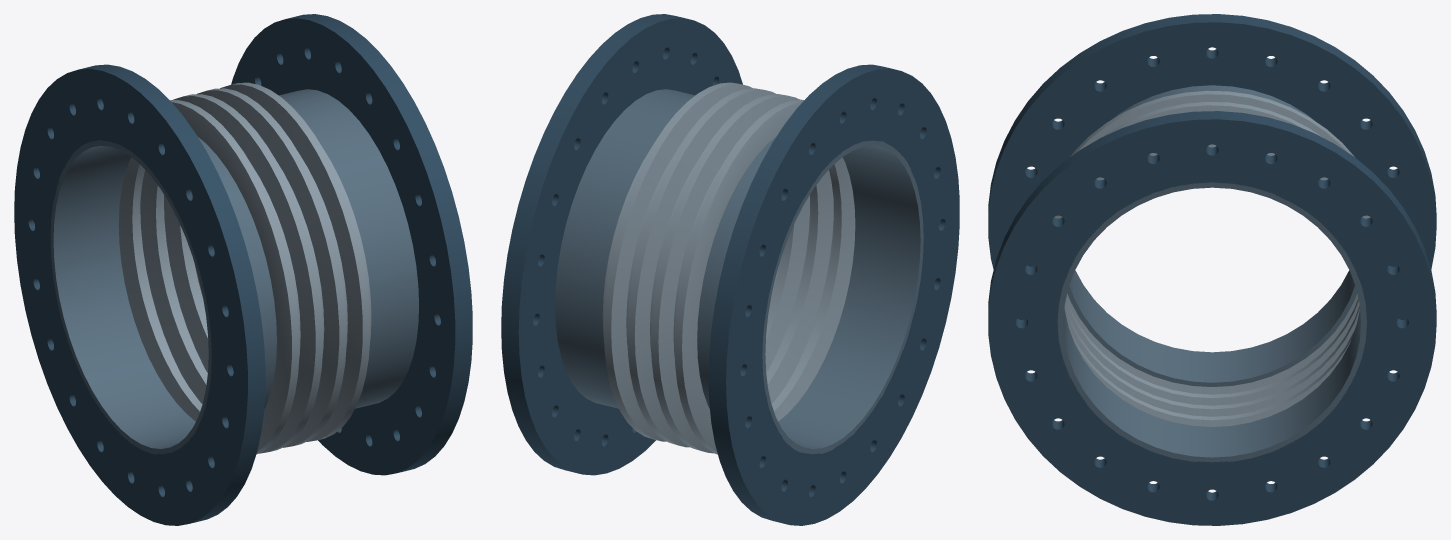
The model's file is flan-dn800-L660-D820-f.glb.
3 views of the same model, side by side, from view 1: azimuth 30°, elevation 25°; view 2: azimuth 150°, elevation 25°; view 3: azimuth 270°, elevation 25° (orthographic). The views are drawn at different scales.
Parts seen in each view (by area): view 1: prokladka_silfon_1, homut_flanec_1, homut_flanec_2, patrubok_1, patrubok_2; view 2: prokladka_silfon_1, homut_flanec_1, homut_flanec_2, patrubok_1, patrubok_2; view 3: homut_flanec_2, homut_flanec_1, prokladka_silfon_1, patrubok_2, patrubok_1.
Boxes of the visible parts, <box> form: prokladka_silfon_1: <box>118,82,371,454</box>; homut_flanec_1: <box>14,64,265,525</box>; homut_flanec_2: <box>231,14,472,475</box>; patrubok_1: <box>50,137,276,454</box>; patrubok_2: <box>279,89,418,408</box>; prokladka_silfon_1: <box>602,82,855,454</box>; homut_flanec_1: <box>708,64,959,525</box>; homut_flanec_2: <box>501,14,742,475</box>; patrubok_1: <box>697,136,923,454</box>; patrubok_2: <box>555,89,694,408</box>; homut_flanec_2: <box>988,111,1436,525</box>; homut_flanec_1: <box>988,14,1436,319</box>; prokladka_silfon_1: <box>1054,90,1370,426</box>; patrubok_2: <box>1057,182,1366,462</box>; patrubok_1: <box>1067,85,1357,386</box>.
Bounding box in the file's own units: 660 × 1189 × 1188.
